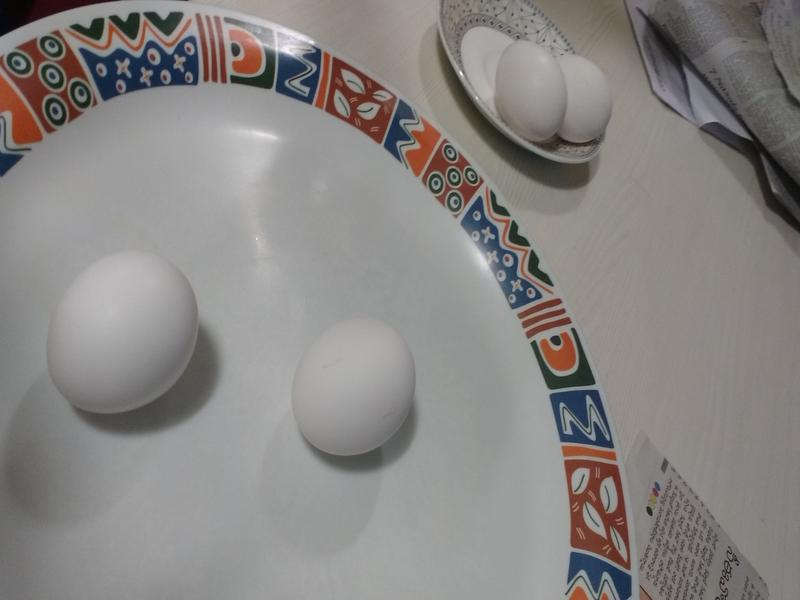egg: (289, 312, 424, 457)
